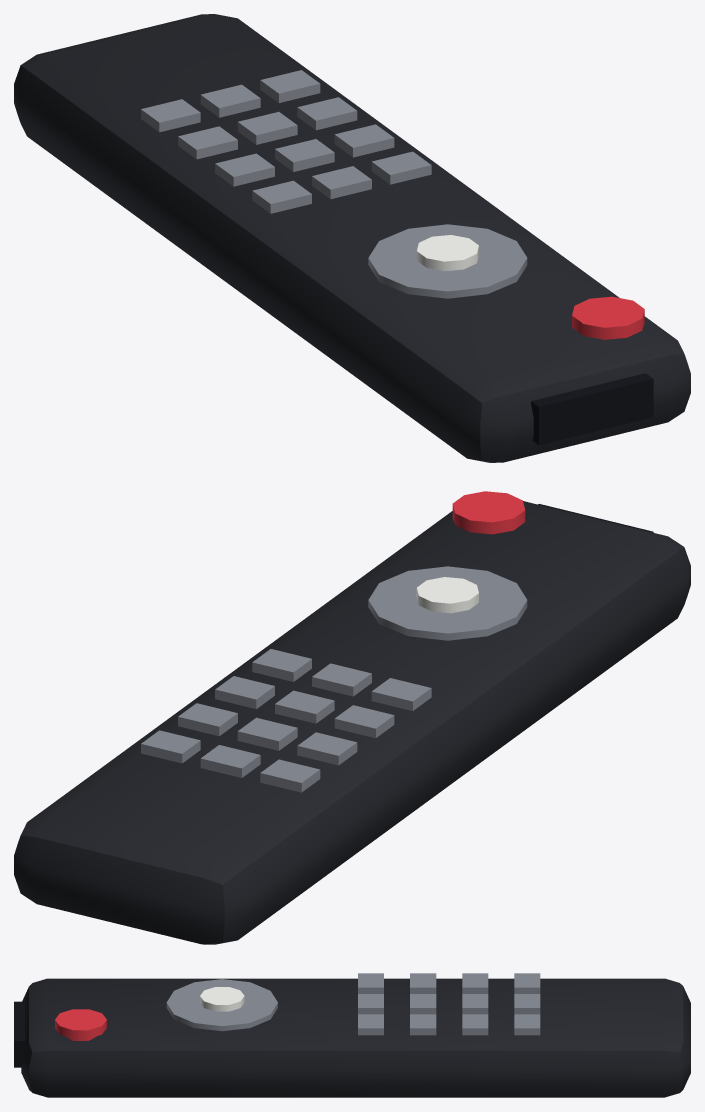
Rendered from tv_remote.glb.
The picture shows the model from 3 angles, top to bottom: view 1: azimuth 30°, elevation 25°; view 2: azimuth 150°, elevation 25°; view 3: azimuth 270°, elevation 25°; orthographic projection. The views are drawn at different scales.
Visible parts, largest first — view 1: body; view 2: body; view 3: body.
Part boxes in pixels (x1,y1,x2,y2): body: (14, 14, 690, 462); body: (14, 491, 690, 944); body: (14, 973, 690, 1097).
Bounding box in the file's own units: 5 × 2.15 × 18.2.
